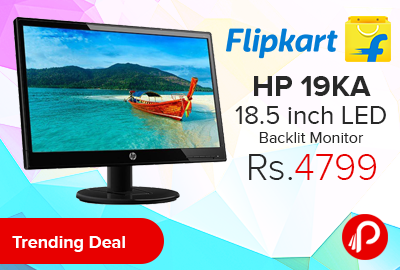hp-monitor-19ka: (8, 25, 224, 203)
